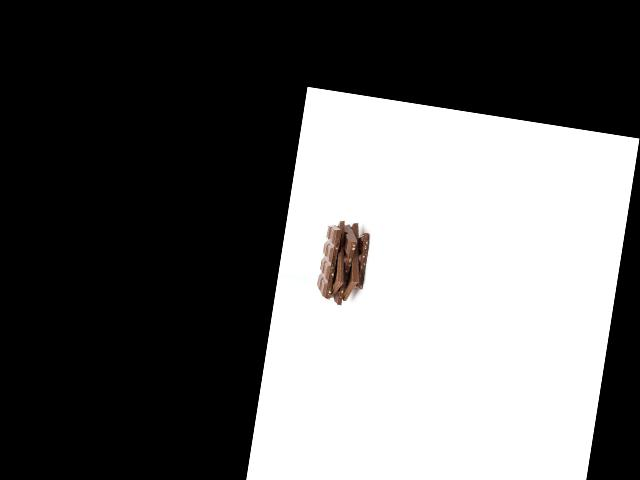chocolate: (334, 222, 376, 303)
